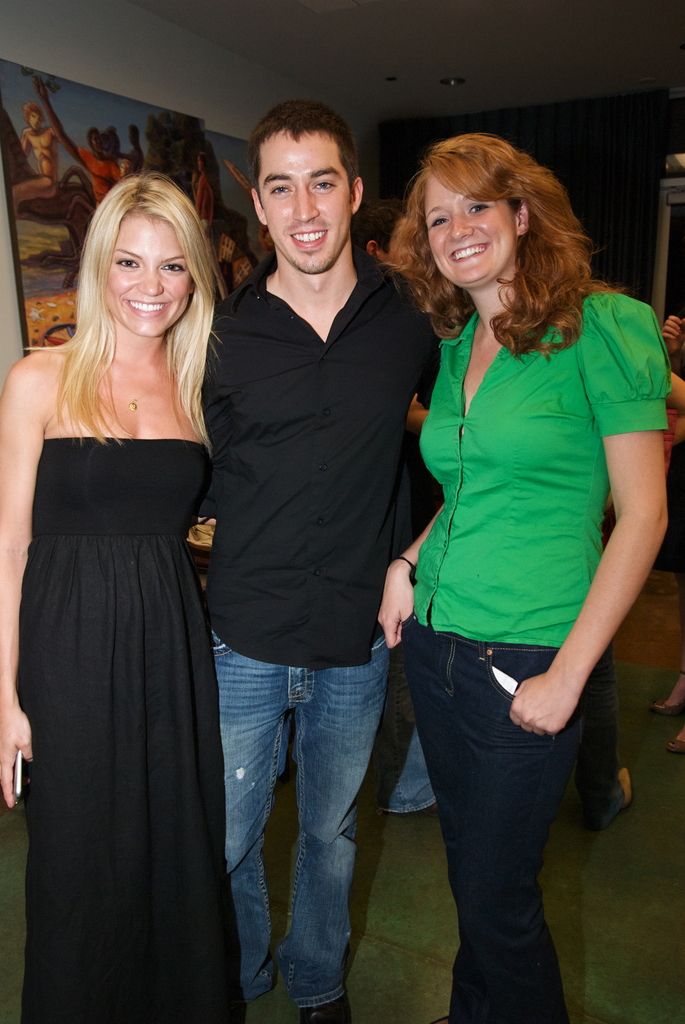Footwear: (585, 762, 631, 825), (303, 994, 363, 1023)
